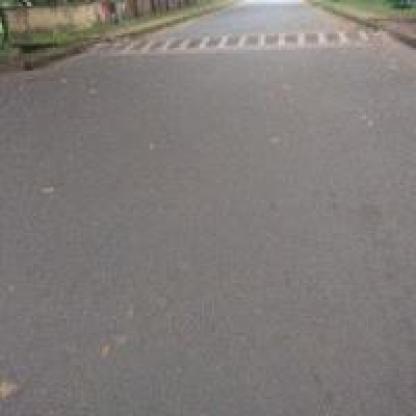Speed Bump: (93, 23, 387, 58)
